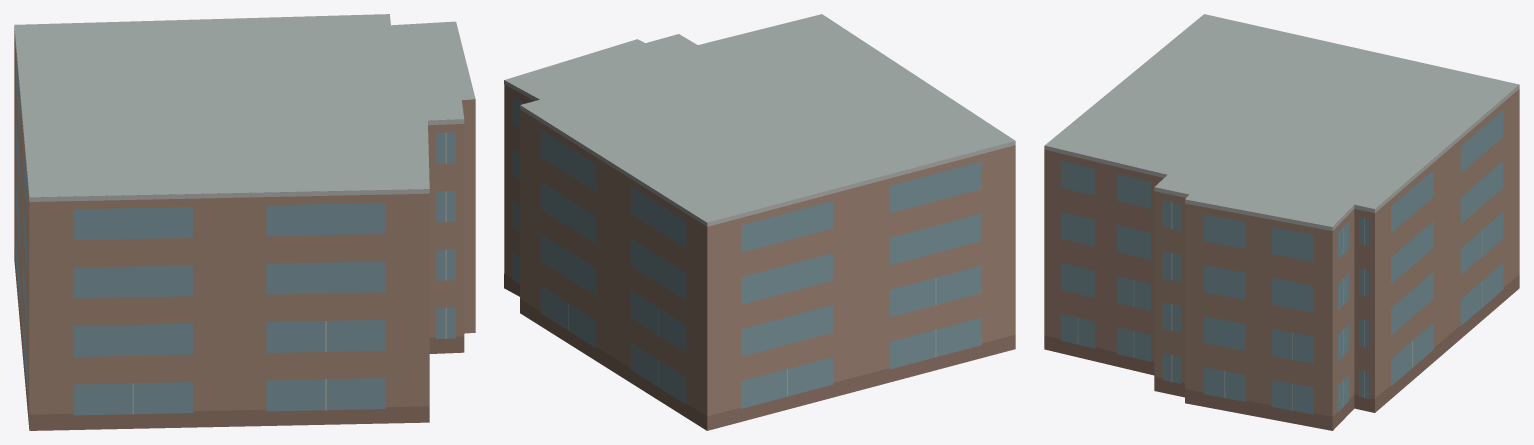
File: survey-upis-32709514.glb
The picture shows the model from 3 angles, left to right: view 1: azimuth 30°, elevation 25°; view 2: azimuth 150°, elevation 25°; view 3: azimuth 270°, elevation 25°; orthographic projection. The views are drawn at different scales.
Visible parts, largest first — view 1: survey-upis-32709514.tmp; view 2: survey-upis-32709514.tmp; view 3: survey-upis-32709514.tmp.
Boxes of the visible parts, box(x1,y1,x2,y2) form: survey-upis-32709514.tmp: box(14, 14, 475, 430); survey-upis-32709514.tmp: box(504, 14, 1015, 430); survey-upis-32709514.tmp: box(1044, 14, 1519, 430).
Bounding box in the file's own units: 27.36 × 12.2 × 25.78.
